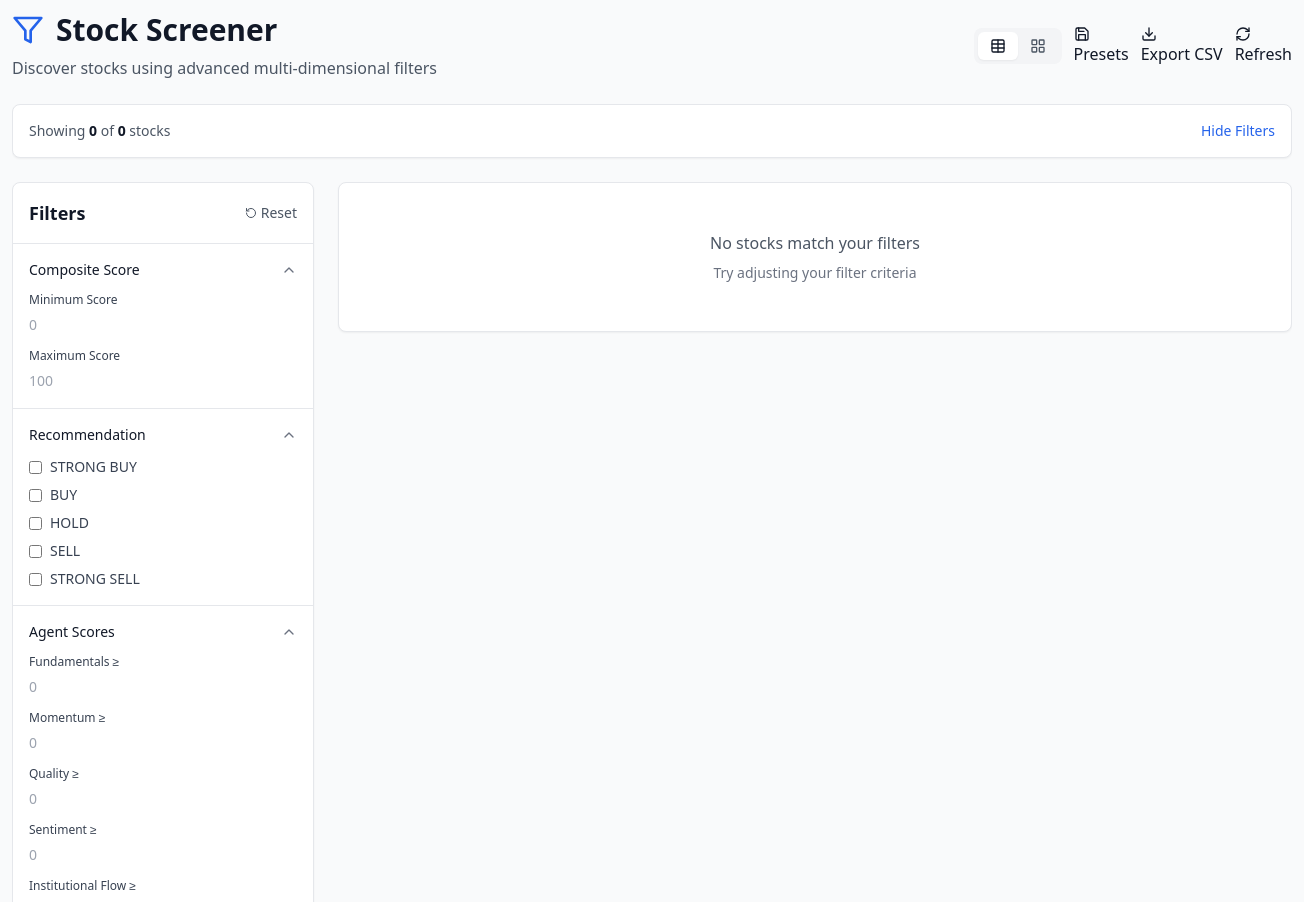
Test: Screener page › hides filters when Hide Filters is clicked
What coordinates should you click on to do the following:
click the button "Hide Filters"
I would click on:
 (1238, 131)
Its box is [1201,121,1275,141].
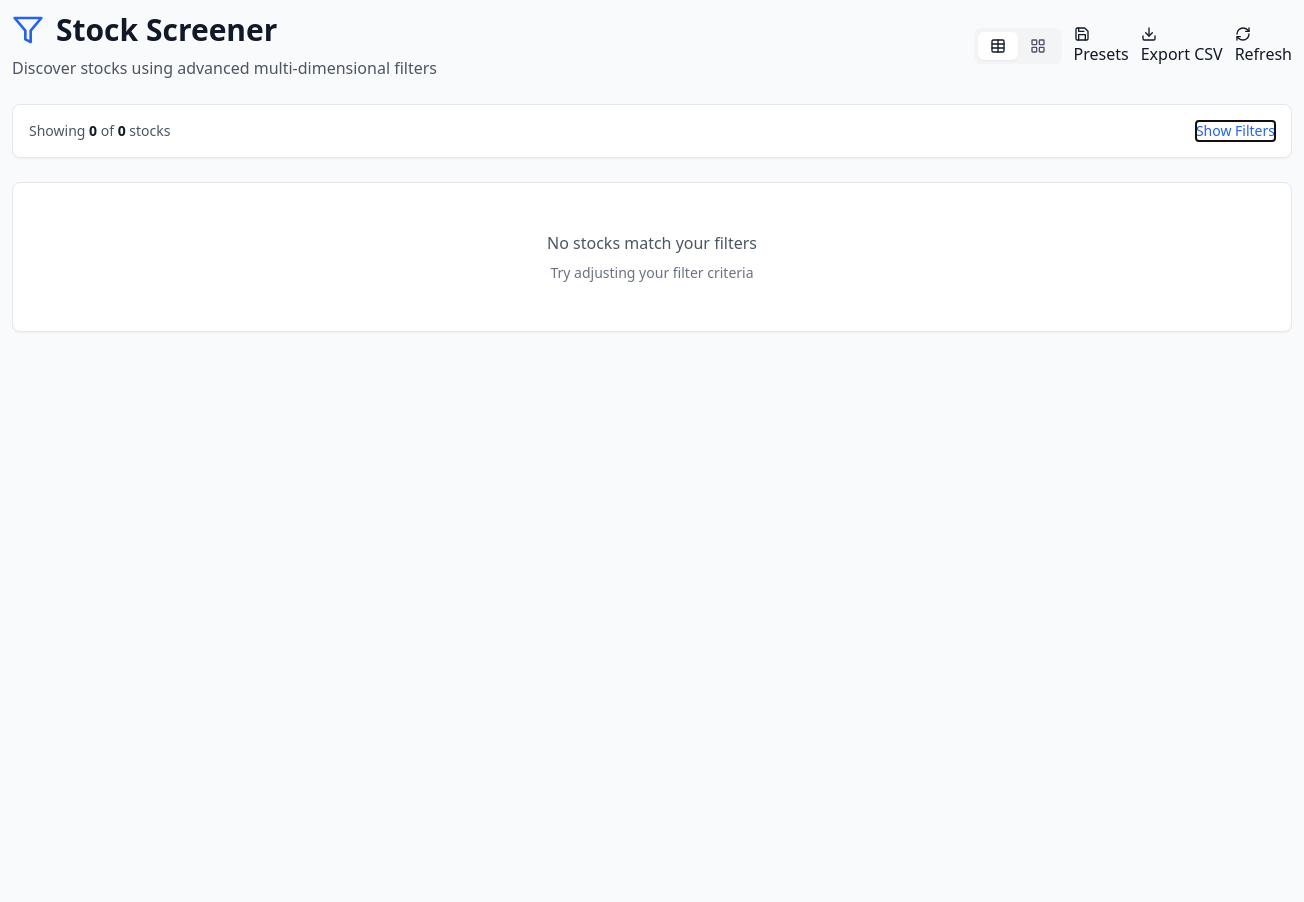
Expected: the button "Show Filters" is shown, [1196,121,1275,141]
